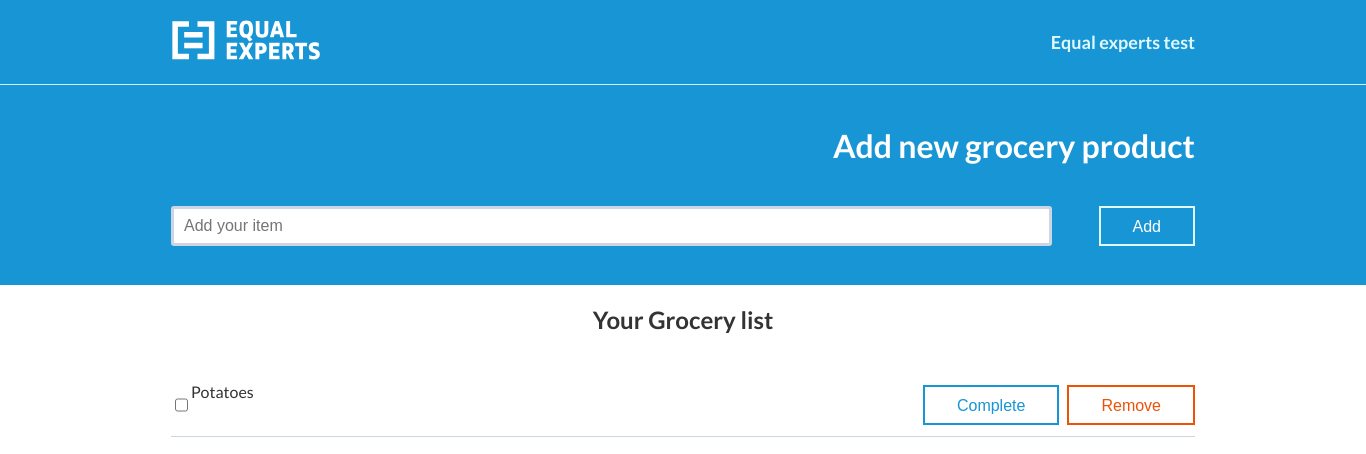
Scenario: testing App › should remove an item on my list
Check: the text "Potatoes" is shown, box [191, 382, 254, 401]
Click the button "Remove" at (1131, 405), box [1067, 385, 1195, 425]
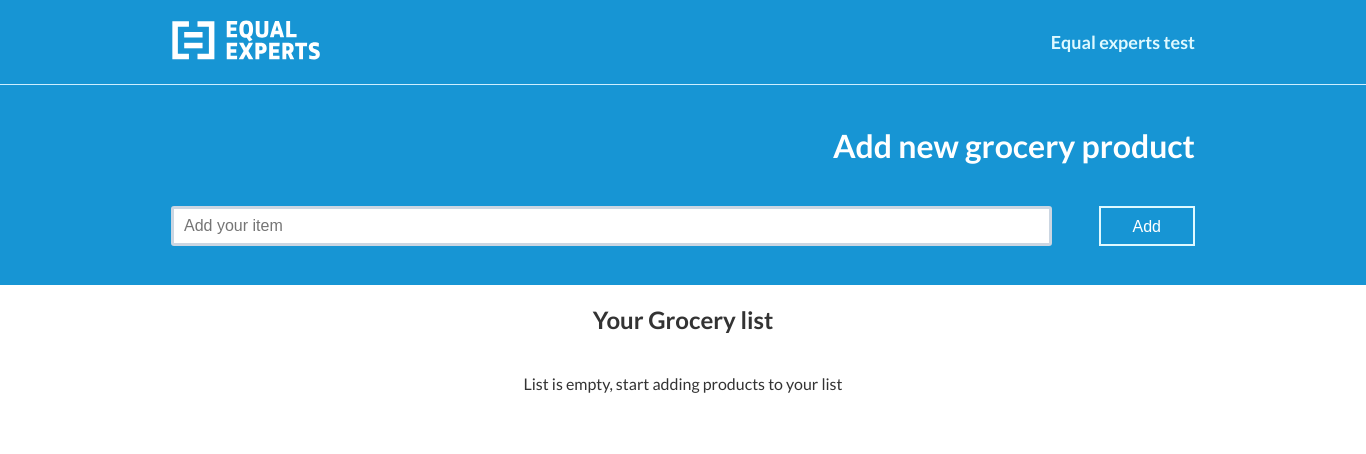
Check: the text "List is empty, start adding products to your list" is shown, box [524, 374, 842, 393]
